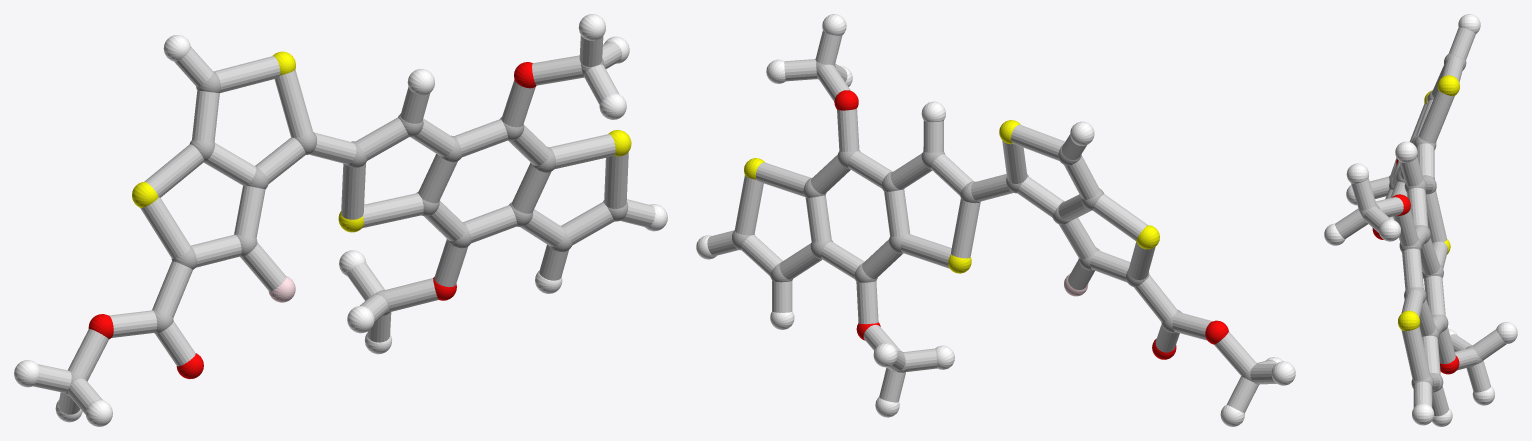
File: color.glb
The picture shows the model from 3 angles, left to right: view 1: azimuth 30°, elevation 25°; view 2: azimuth 150°, elevation 25°; view 3: azimuth 270°, elevation 25°; orthographic projection. The views are drawn at different scales.
Visible parts, largest first — view 1: grp15205, grp8689, grp1, grp13395, grp7241; view 2: grp15205, grp8689, grp1, grp7241, grp13395; view 3: grp15205, grp8689, grp1, grp7241, grp13395.
Boxes of the visible parts, x1,y1,x2,y2 form: grp15205: (33, 35, 655, 414); grp8689: (14, 14, 667, 426); grp1: (64, 59, 628, 395); grp13395: (88, 62, 536, 379); grp7241: (132, 51, 631, 232); grp15205: (707, 31, 1276, 413); grp8689: (696, 14, 1295, 426); grp1: (732, 61, 1259, 384); grp7241: (744, 120, 1159, 273); grp13395: (834, 90, 1228, 359); grp15205: (1335, 27, 1506, 416); grp8689: (1324, 14, 1517, 426); grp1: (1359, 53, 1482, 392); grp7241: (1398, 75, 1459, 331); grp13395: (1372, 159, 1459, 374).
Bounding box in the file's own units: 16.66 × 9.04 × 5.18.
